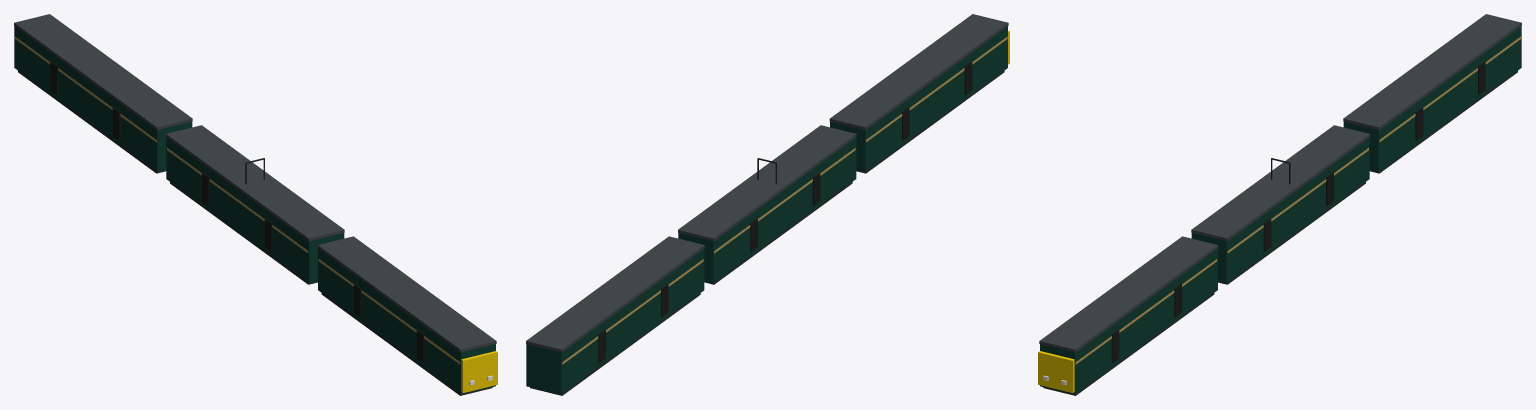
File: train-gwr.glb
The picture shows the model from 3 angles, left to right: view 1: azimuth 30°, elevation 25°; view 2: azimuth 150°, elevation 25°; view 3: azimuth 330°, elevation 25°; orthographic projection.
Parts seen in each view (by area): view 1: train-gwr; view 2: train-gwr; view 3: train-gwr.
Part boxes in pixels (box(x1,y1,x2,y2)): train-gwr: box(14, 14, 497, 395); train-gwr: box(526, 14, 1009, 395); train-gwr: box(1038, 14, 1521, 395).
Bounding box in the file's own units: 2.88 × 5.17 × 60.38.
